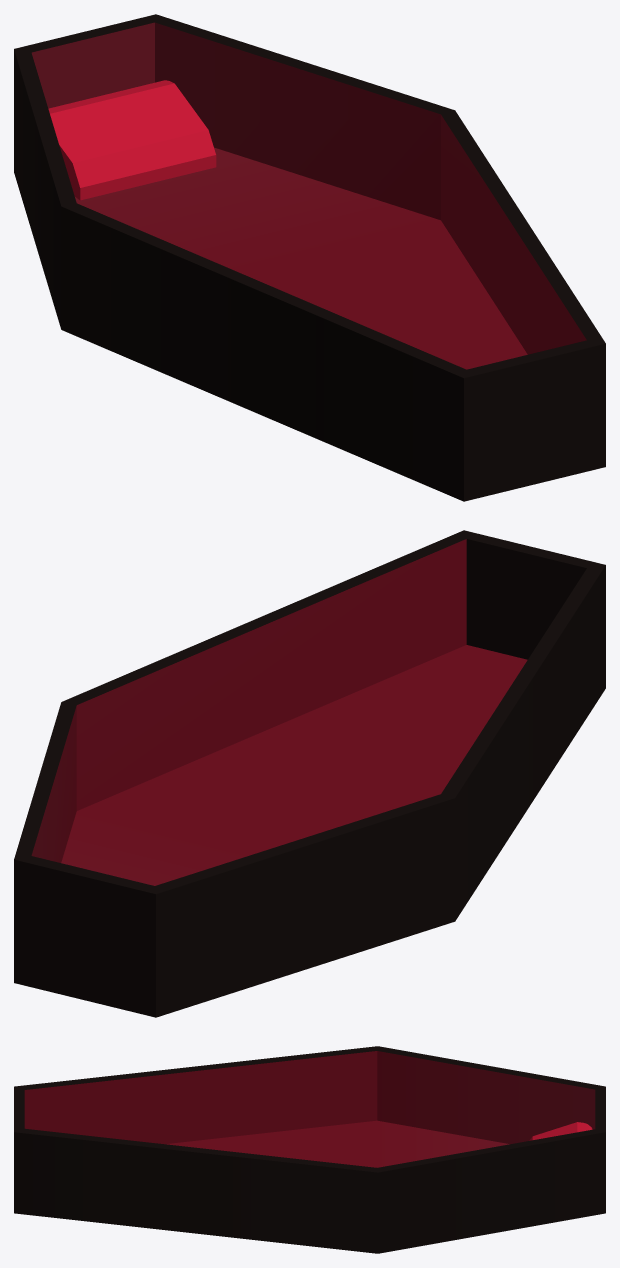
Rendered from Coffin.FBX.
The picture shows the model from 3 angles, top to bottom: view 1: azimuth 30°, elevation 25°; view 2: azimuth 150°, elevation 25°; view 3: azimuth 270°, elevation 25°; orthographic projection. The views are drawn at different scales.
Parts seen in each view (by area): view 1: coffin001; view 2: coffin001; view 3: coffin001.
Boxes of the visible parts, left/top/right/bottom form: coffin001: left=14, top=14, right=605, bottom=501; coffin001: left=14, top=530, right=605, bottom=1017; coffin001: left=14, top=1046, right=605, bottom=1253.
Bounding box in the file's own units: 12.11 × 3.63 × 23.97.
